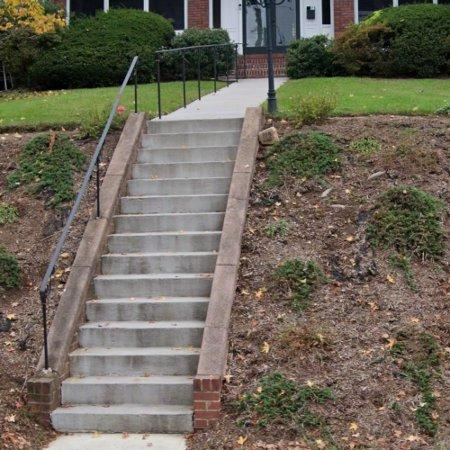stairs: (51, 118, 243, 434)
